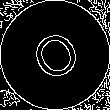O_SE: (24, 23, 86, 87)
